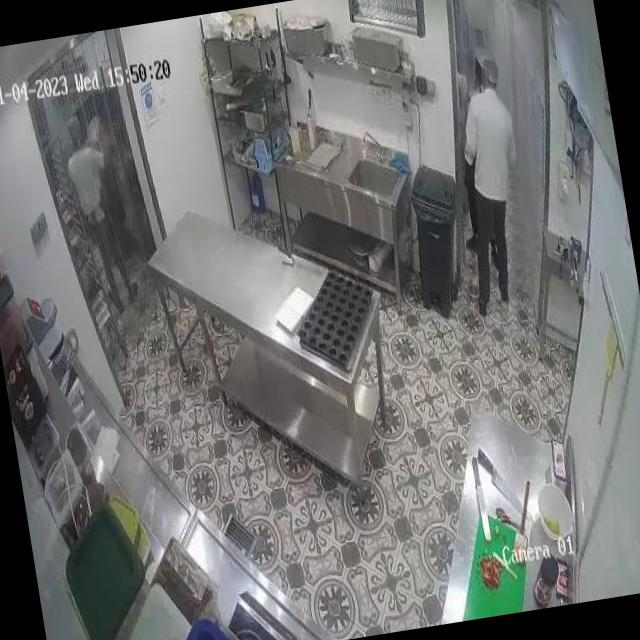hairnet: (64, 114, 85, 148), (480, 54, 500, 88)
